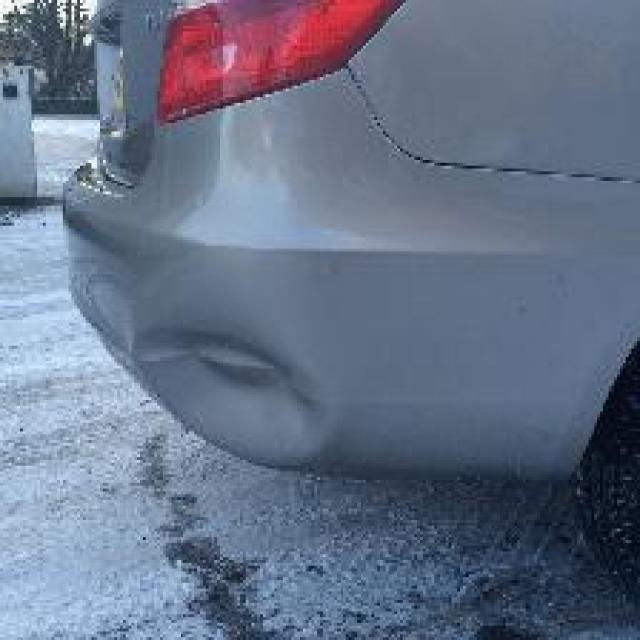damaged: (126, 326, 346, 468)
